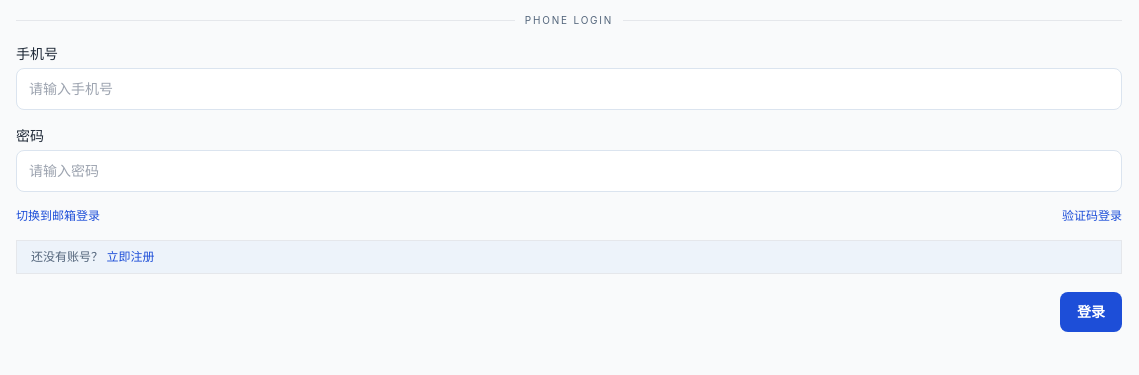
Test: AuthLoginForm transport ownership › clears an existing email OTP session when a resend returns a damaged response
This screenshot has width=1139, height=375.
Step 1. Click the button "切换到邮箱登录" → (58, 216), box [16,208,100,224]
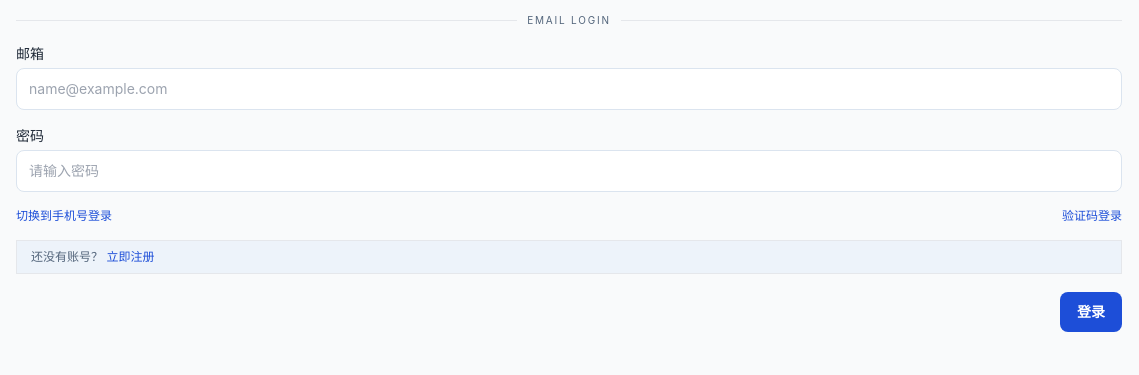
Step 2. Click the button "验证码登录" → (1092, 216), box [1062,208,1122,224]
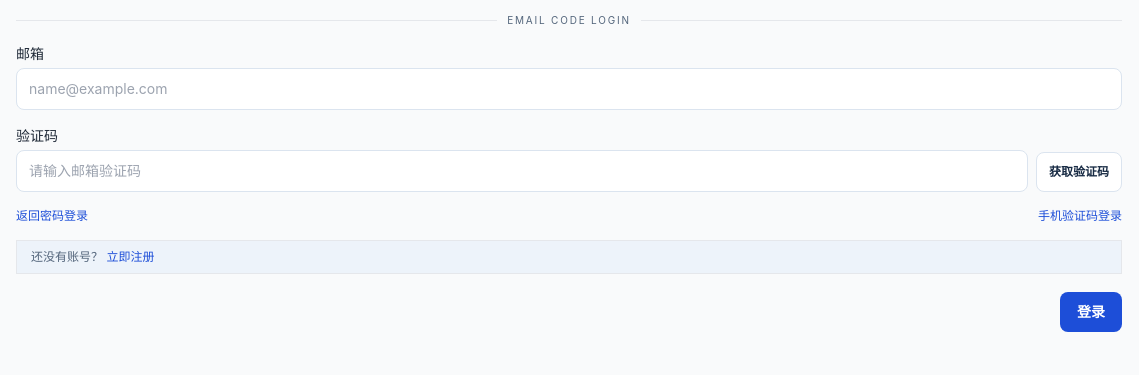
Step 3. Type "damaged-response@example.test" into the field with id "auth-login-email" → (569, 89), box [16,68,1122,110]
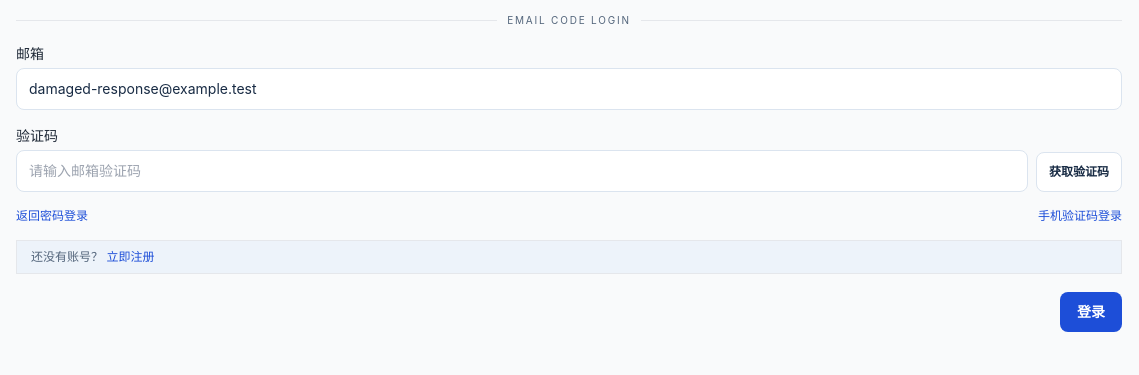
Step 4. Click the button "获取验证码" → (1079, 172), box [1036,152,1122,192]
Wait 1000 ms
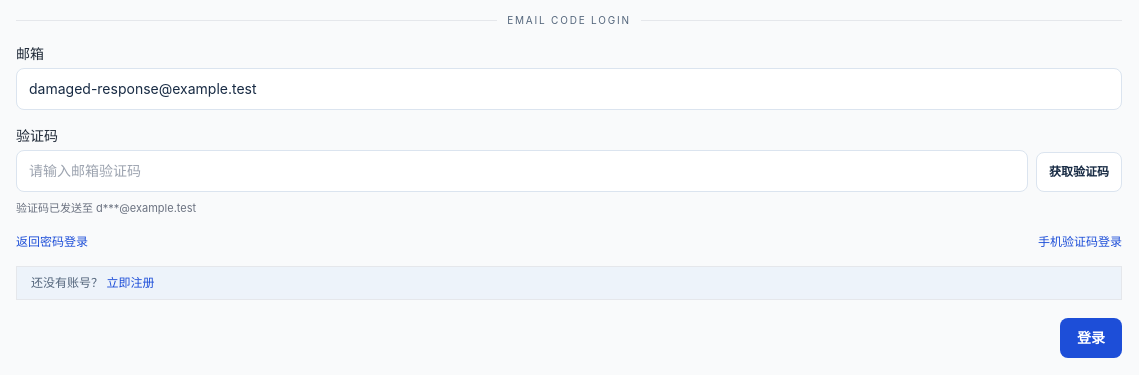
Step 5. Type "2468" into the field with id "auth-login-code" → (522, 171), box [16,150,1028,192]
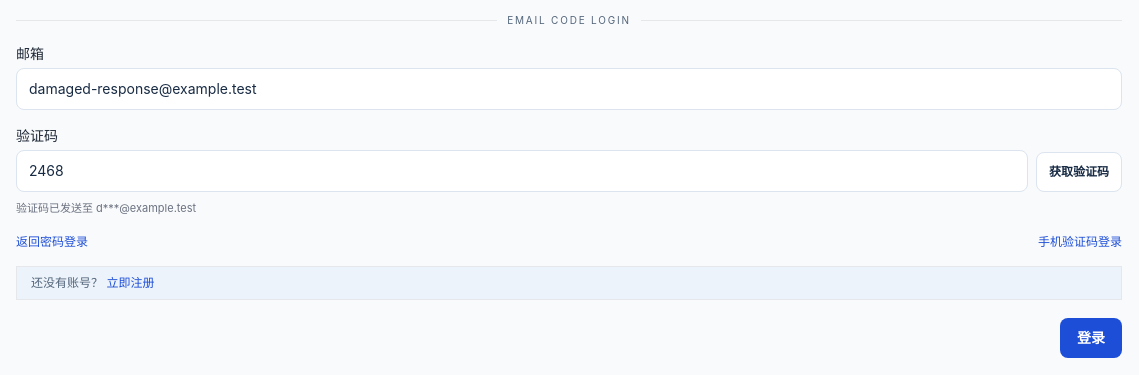
Step 6. Click the button "获取验证码" → (1079, 172), box [1036,152,1122,192]
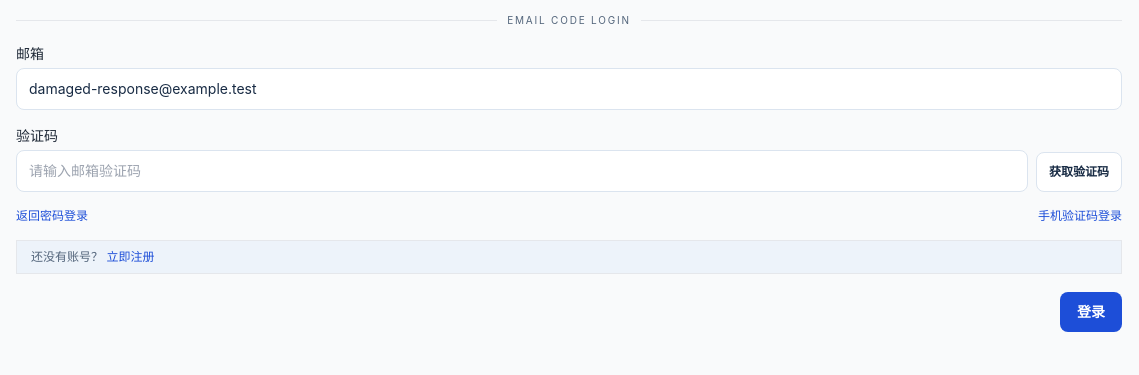
Expected: the text "d***@example.test" is gone
Expected: the field with id "auth-login-code" is empty, [16,150,1028,192]
